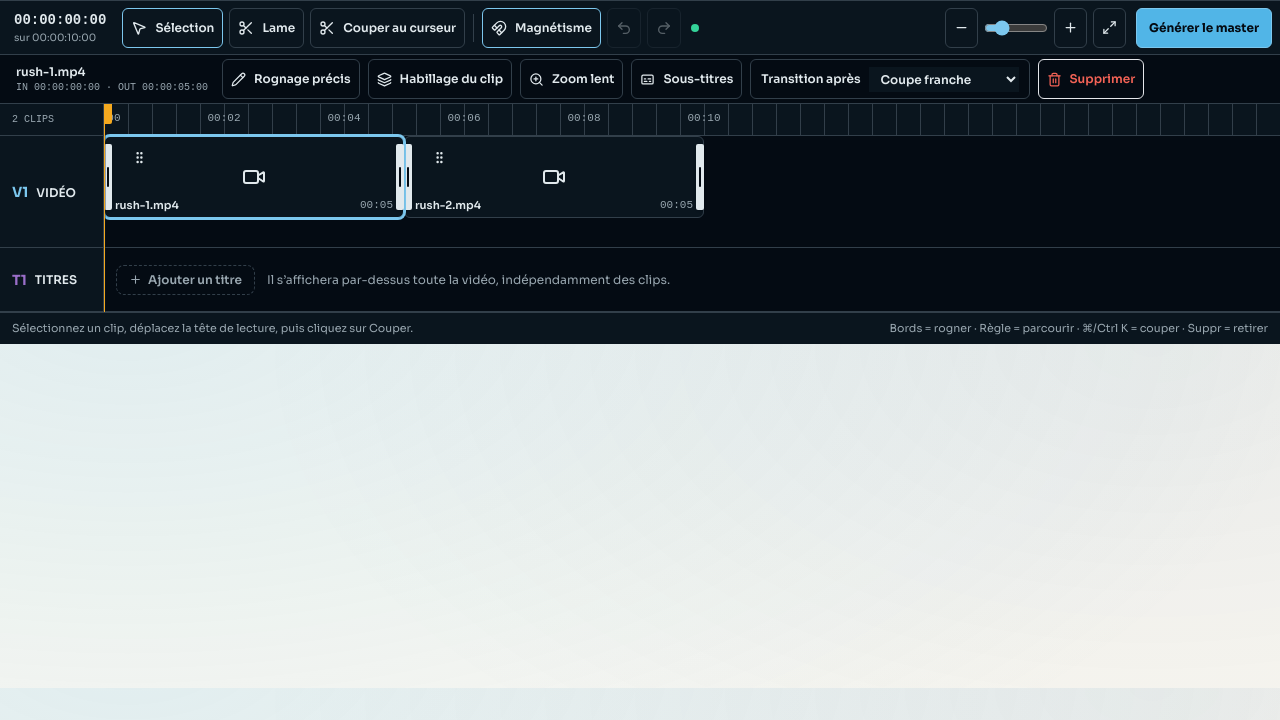
Scenario: la pile d’annulation survit à ce qui n’est pas une coupe › reste disponible après une frappe dans l’inspecteur
Expected: the button named "Annuler" is disabled, [607,8,641,48]
Click the button "Supprimer".
click(1091, 79)  # box [1038,59,1144,99]
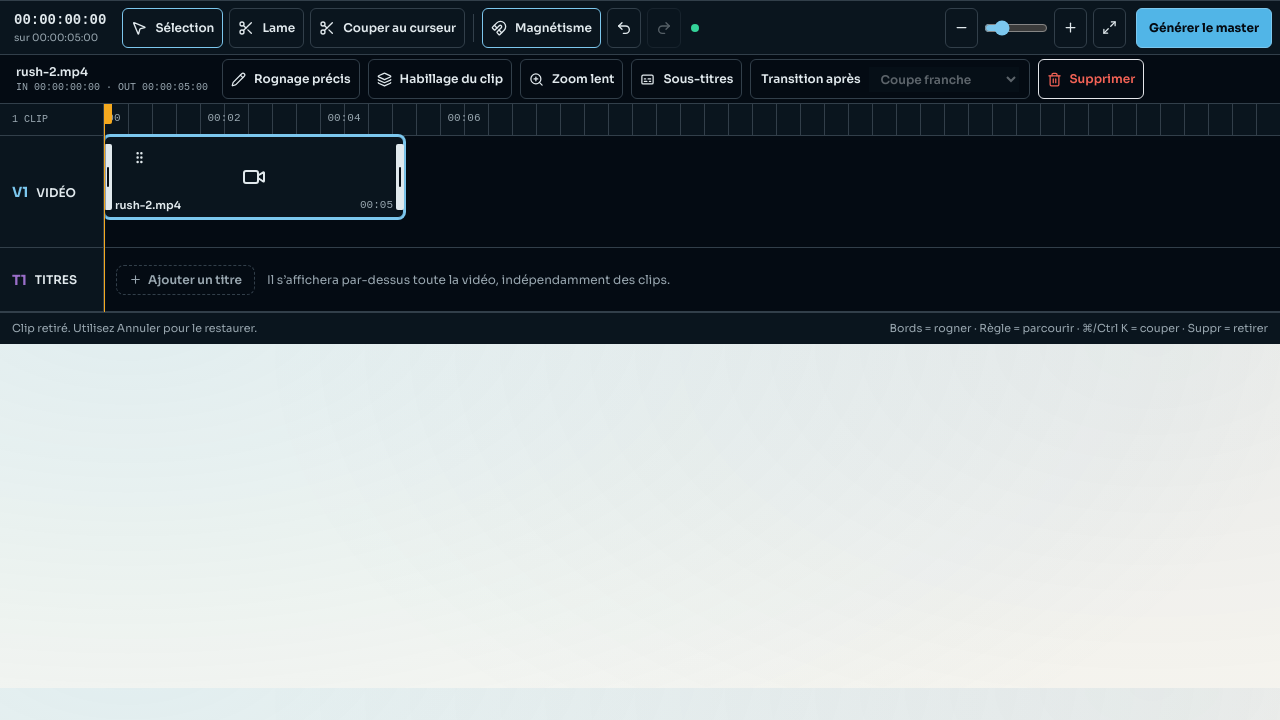
Expected: the button named "Annuler" is enabled, [607,8,641,48]
